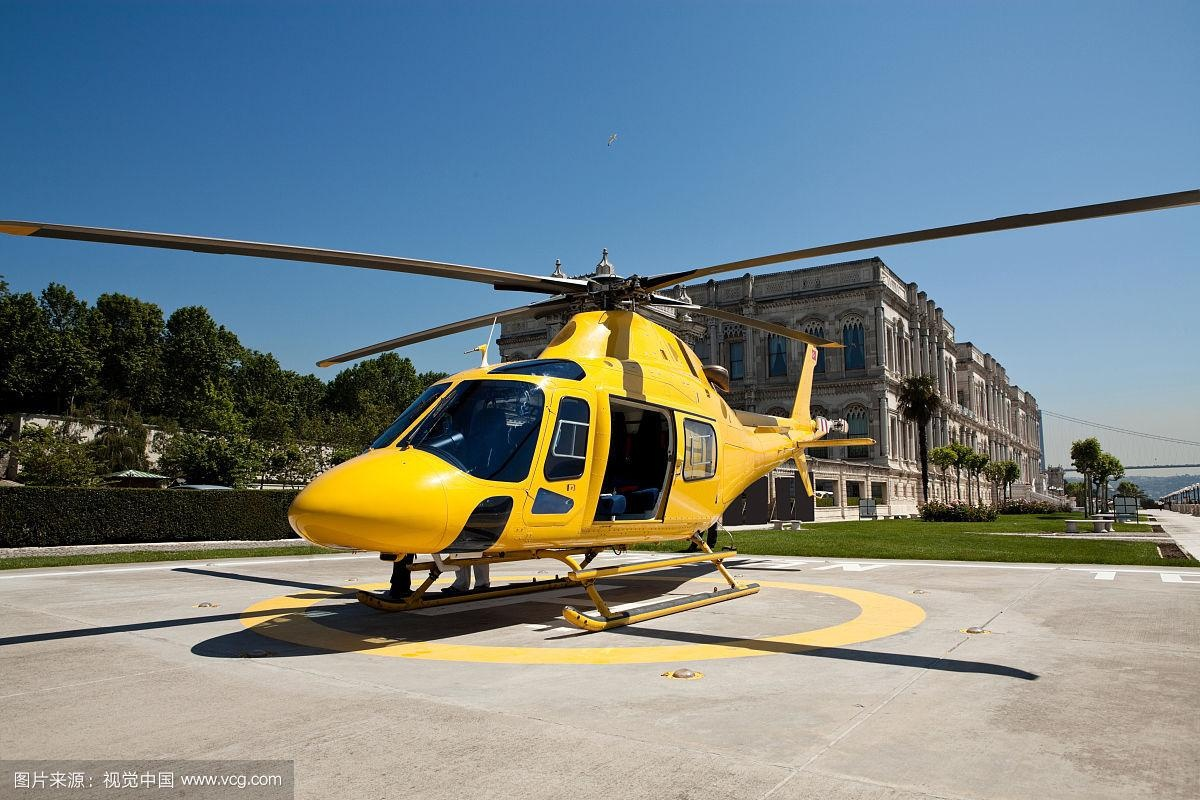airplane: (1, 183, 1196, 636)
